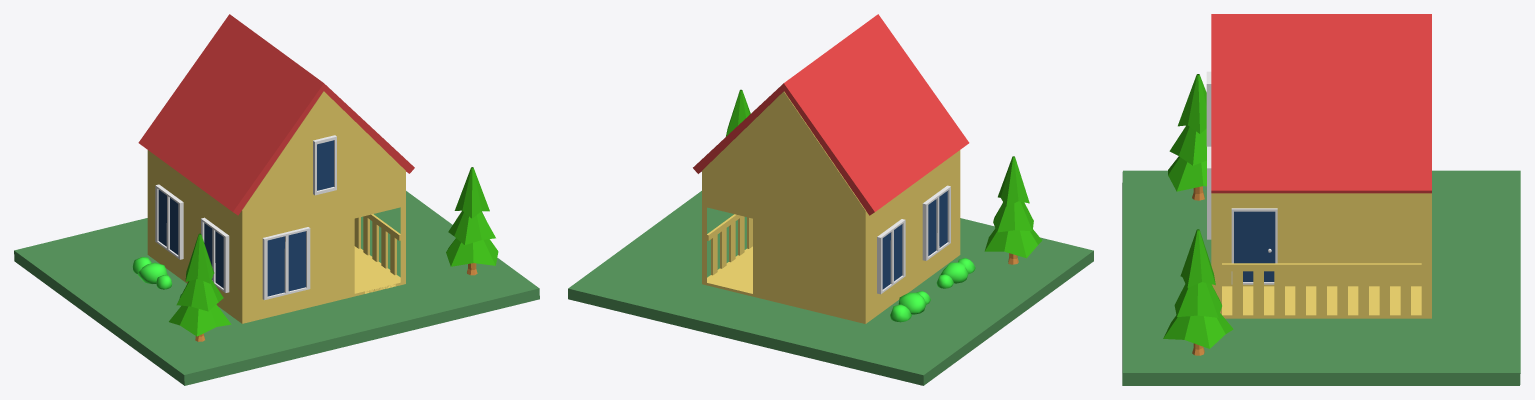
The model's file is house-10.fbx.
The picture shows the model from 3 angles, left to right: view 1: azimuth 30°, elevation 25°; view 2: azimuth 150°, elevation 25°; view 3: azimuth 270°, elevation 25°; orthographic projection. The views are drawn at different scales.
Parts seen in each view (by area): view 1: Plane, Cube, Cube.001, christmas tree, big window 1, christmas tree.001, big window 1.002, big window 1.001, Cube.002; view 2: Plane, Cube, Cube.001, christmas tree.001, big window 1.001, big window 1.002, christmas tree, Icosphere; view 3: Plane, Cube.001, Cube, christmas tree, christmas tree.001, Cube.005, big window 1, Cube.002.
Part boxes in pixels (bbox=[...]): Plane: bbox=[14, 191, 539, 385]; Cube: bbox=[147, 91, 405, 323]; Cube.001: bbox=[138, 14, 414, 215]; christmas tree: bbox=[446, 167, 498, 275]; big window 1: bbox=[262, 227, 310, 300]; christmas tree.001: bbox=[169, 233, 231, 341]; big window 1.002: bbox=[155, 184, 183, 259]; big window 1.001: bbox=[201, 217, 229, 292]; Cube.002: bbox=[313, 135, 336, 195]; Plane: bbox=[568, 191, 1093, 385]; Cube: bbox=[702, 91, 960, 323]; Cube.001: bbox=[693, 14, 969, 215]; christmas tree.001: bbox=[984, 156, 1042, 264]; big window 1.001: bbox=[922, 185, 950, 260]; big window 1.002: bbox=[877, 219, 905, 294]; christmas tree: bbox=[726, 89, 750, 136]; Icosphere: bbox=[898, 292, 926, 314]; Plane: bbox=[1122, 170, 1520, 385]; Cube.001: bbox=[1211, 14, 1431, 193]; Cube: bbox=[1211, 193, 1431, 318]; christmas tree: bbox=[1163, 229, 1233, 355]; christmas tree.001: bbox=[1168, 74, 1206, 200]; Cube.005: bbox=[1231, 208, 1277, 284]; big window 1: bbox=[1207, 146, 1211, 239]; Cube.002: bbox=[1206, 71, 1211, 146].
Bounding box in the file's own units: 2949 × 1836 × 2448.
